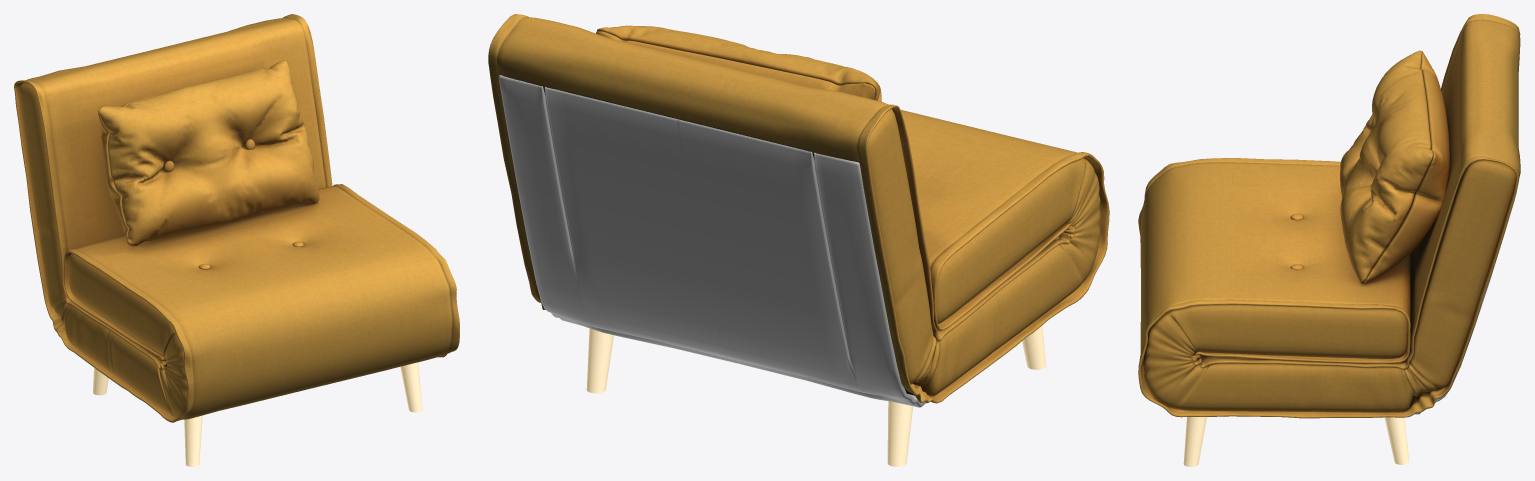
3 views of the same model, side by side, from view 1: azimuth 30°, elevation 25°; view 2: azimuth 150°, elevation 25°; view 3: azimuth 270°, elevation 25° (orthographic). The views are drawn at different scales.
Visible parts, largest first — view 1: FABRIC001, WOOD; view 2: FABRIC001, BLACK_FABRIC001, WOOD; view 3: FABRIC001, WOOD.
Part boxes in pixels (left/top/right/bottom): FABRIC001: left=14, top=14, right=459, bottom=422; WOOD: left=93, top=362, right=422, bottom=466; FABRIC001: left=488, top=14, right=1109, bottom=403; BLACK_FABRIC001: left=498, top=75, right=927, bottom=407; WOOD: left=586, top=325, right=1046, bottom=466; FABRIC001: left=1138, top=14, right=1520, bottom=418; WOOD: left=1183, top=417, right=1409, bottom=466.
Size of what is drawn, in the model's own units: 77.26 by 77.83 by 85.34.
